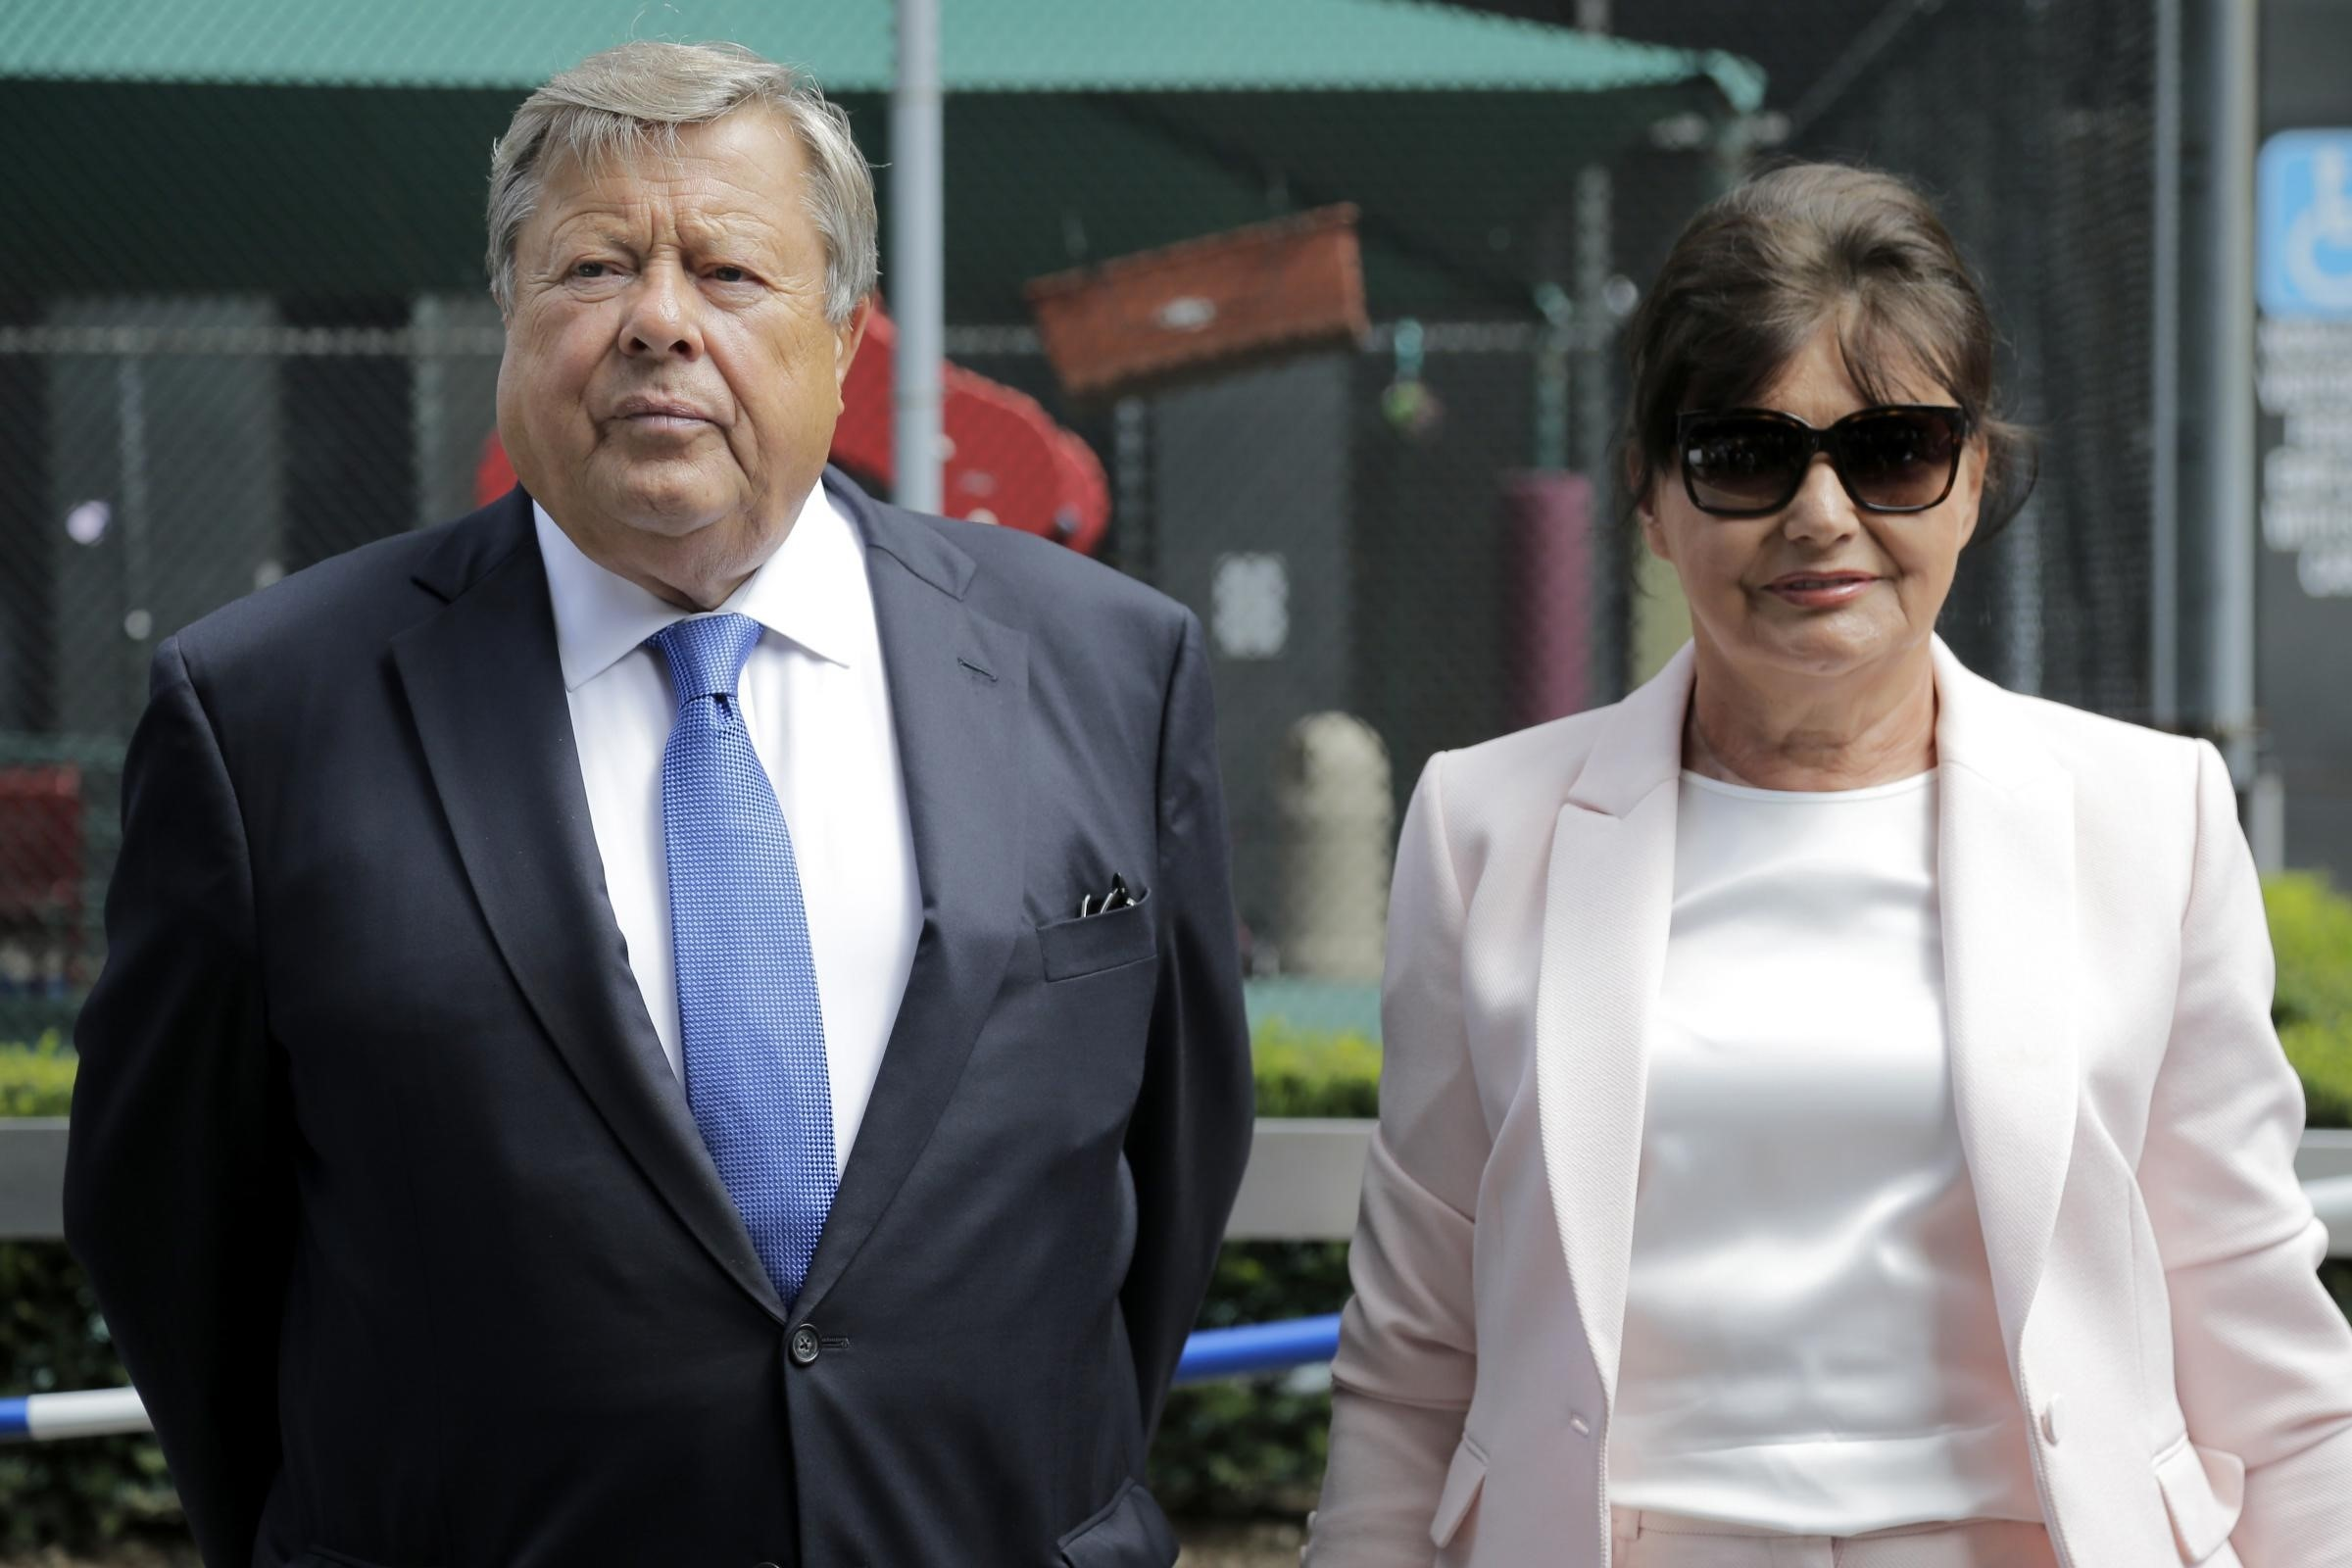face_no_mask: (483, 52, 867, 580), (1638, 239, 1967, 681)
